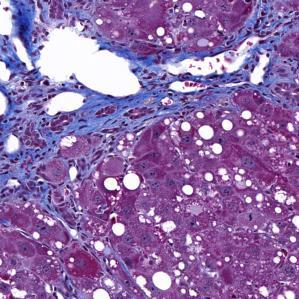fibrosis: (3, 78, 141, 174), (137, 38, 275, 114), (6, 0, 99, 48)
